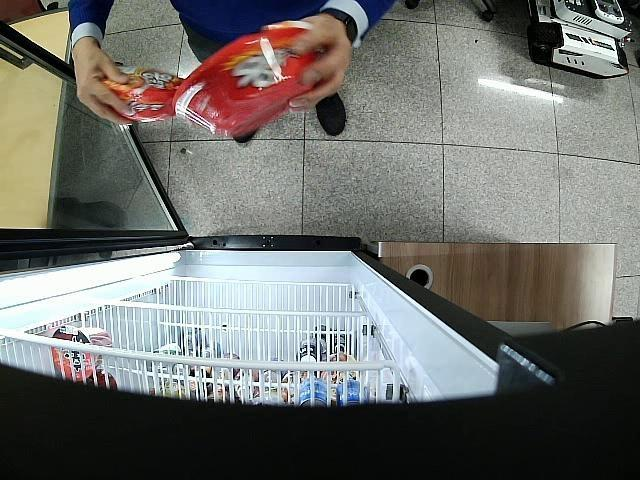10_wangTtukkeong: (173, 21, 324, 137), (100, 66, 186, 122)
